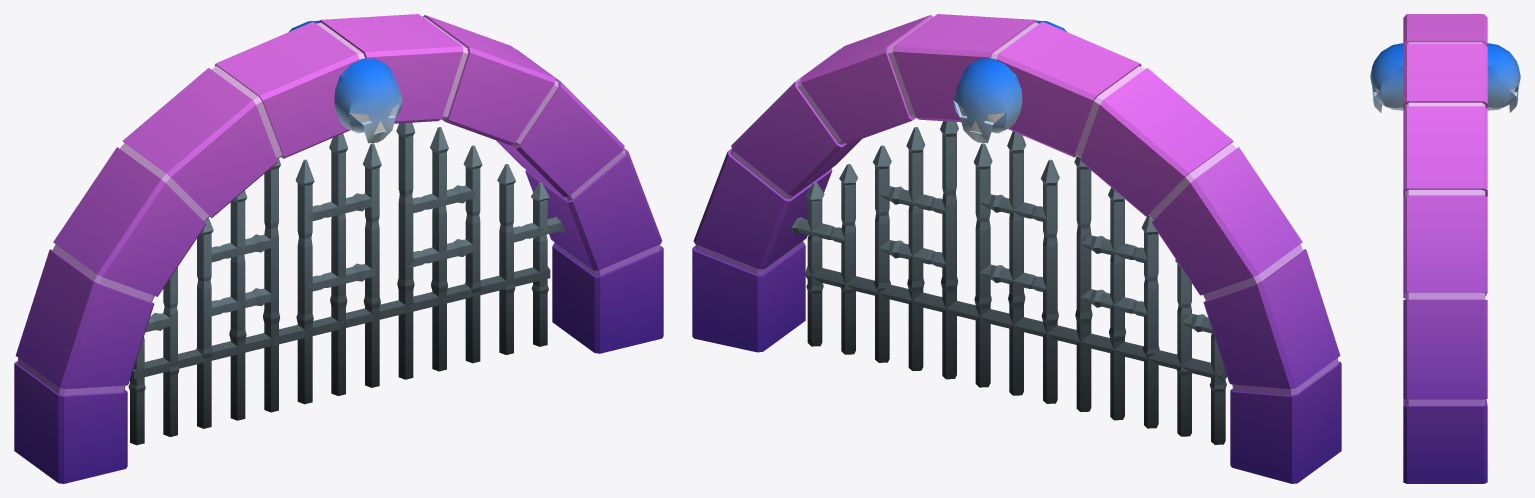
File: Gate_Closed.fbx
3 views of the same model, side by side, from view 1: azimuth 30°, elevation 25°; view 2: azimuth 150°, elevation 25°; view 3: azimuth 270°, elevation 25° (orthographic). The views are drawn at different scales.
Parts seen in each view (by area): view 1: GateClosedMesh; view 2: GateClosedMesh; view 3: GateClosedMesh.
Part boxes in pixels (bbox=[...]): GateClosedMesh: bbox=[14, 14, 663, 483]; GateClosedMesh: bbox=[692, 14, 1341, 483]; GateClosedMesh: bbox=[1370, 14, 1520, 483].
Size of the model in its own units: 1801 by 1016 by 444.
